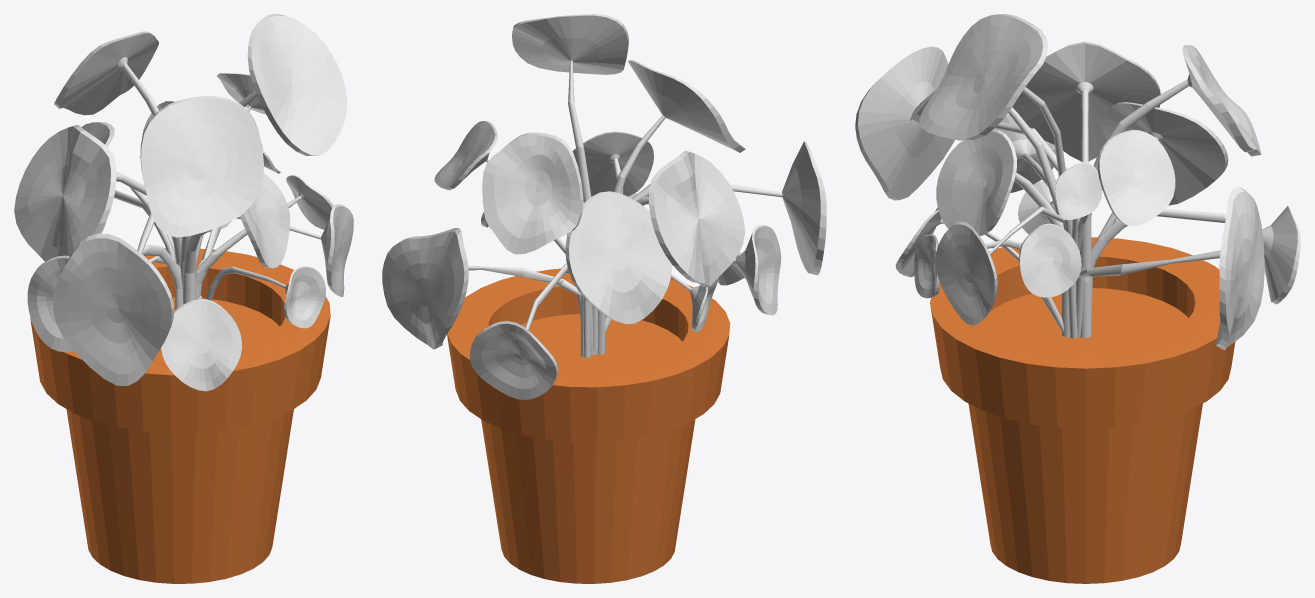
Rendered from Pileapepe1.fbx.
The picture shows the model from 3 angles, left to right: view 1: azimuth 30°, elevation 25°; view 2: azimuth 150°, elevation 25°; view 3: azimuth 270°, elevation 25°; orthographic projection. The views are drawn at different scales.
Visible parts, largest first — view 1: Circle.006, Pot; view 2: Circle.006, Pot; view 3: Circle.006, Pot.
Boxes of the visible parts, box(x1,y1,x2,y2) form: Circle.006: box(14, 14, 353, 391); Pot: box(30, 248, 330, 583); Circle.006: box(382, 14, 826, 399); Pot: box(447, 268, 730, 583); Circle.006: box(855, 14, 1300, 350); Pot: box(930, 237, 1235, 583).
Bounding box in the file's own units: 2587 × 3847 × 2838.
